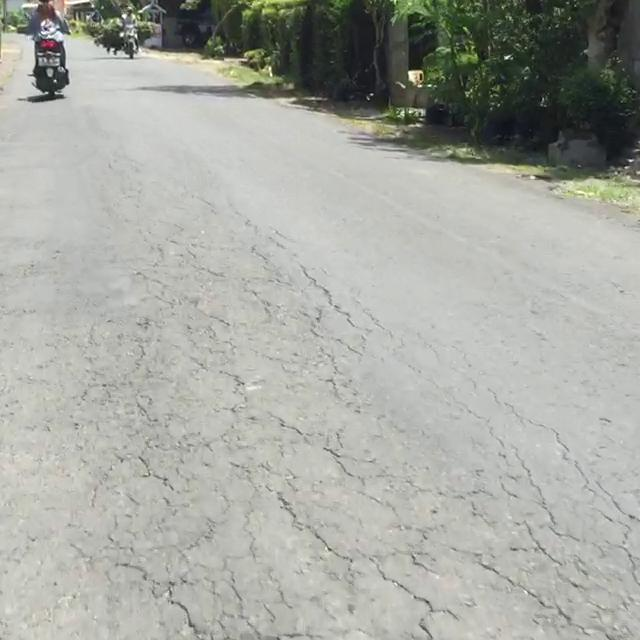retak_kulit_buaya: (74, 215, 419, 640), (280, 405, 640, 640)
